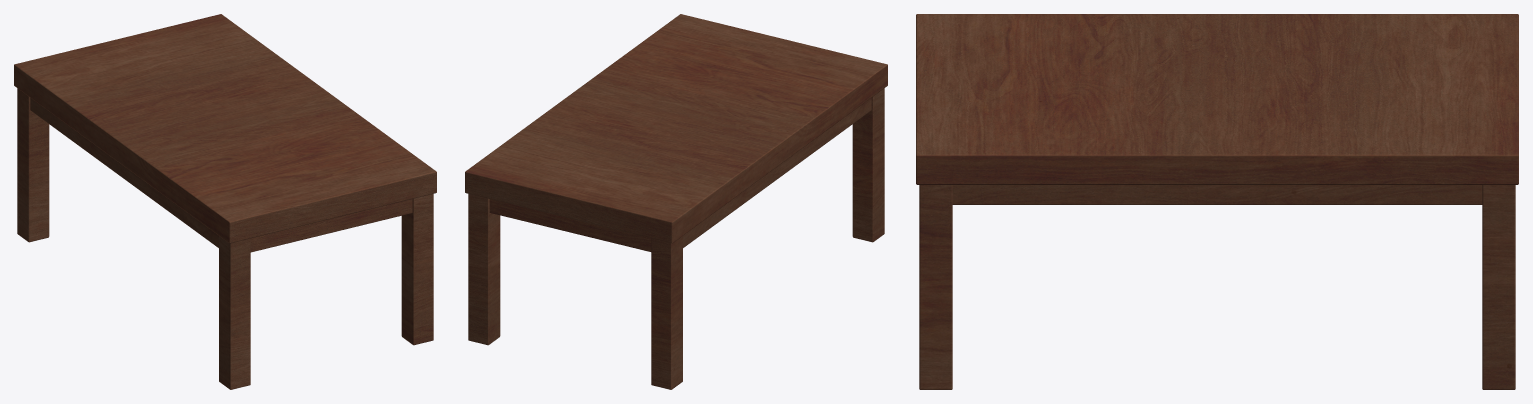
3 renders of one model, left to right at view 1: azimuth 30°, elevation 25°; view 2: azimuth 150°, elevation 25°; view 3: azimuth 270°, elevation 25°, orthographic. The views are drawn at different scales.
Parts seen in each view (by area): view 1: Box001__0; view 2: Box001__0; view 3: Box001__0.
Part boxes in pixels (x1,y1,x2,y2): Box001__0: (14, 14, 436, 389); Box001__0: (465, 14, 887, 389); Box001__0: (916, 14, 1518, 389).
Bounding box in the file's own units: 0.9078 × 0.7081 × 1.63.
